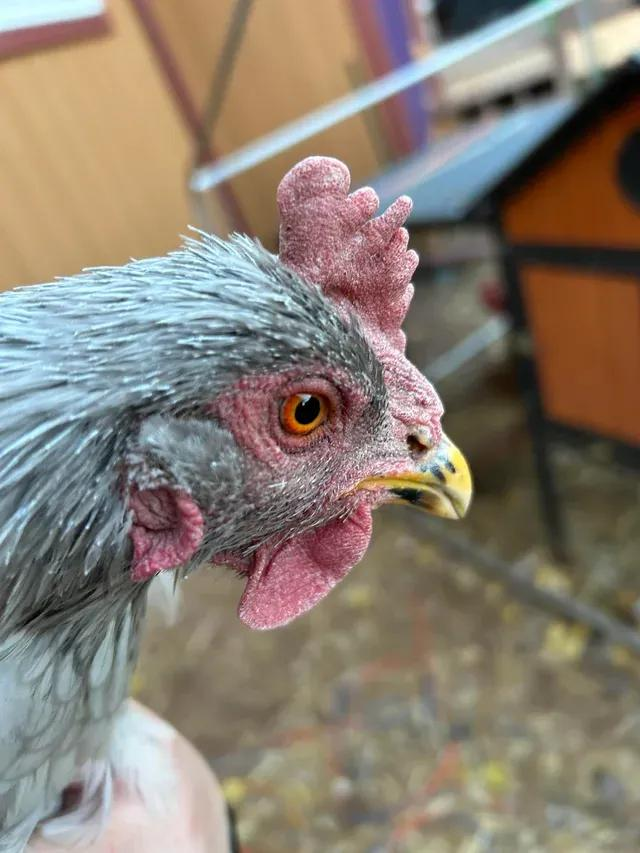AbNormal: (279, 152, 419, 355)
